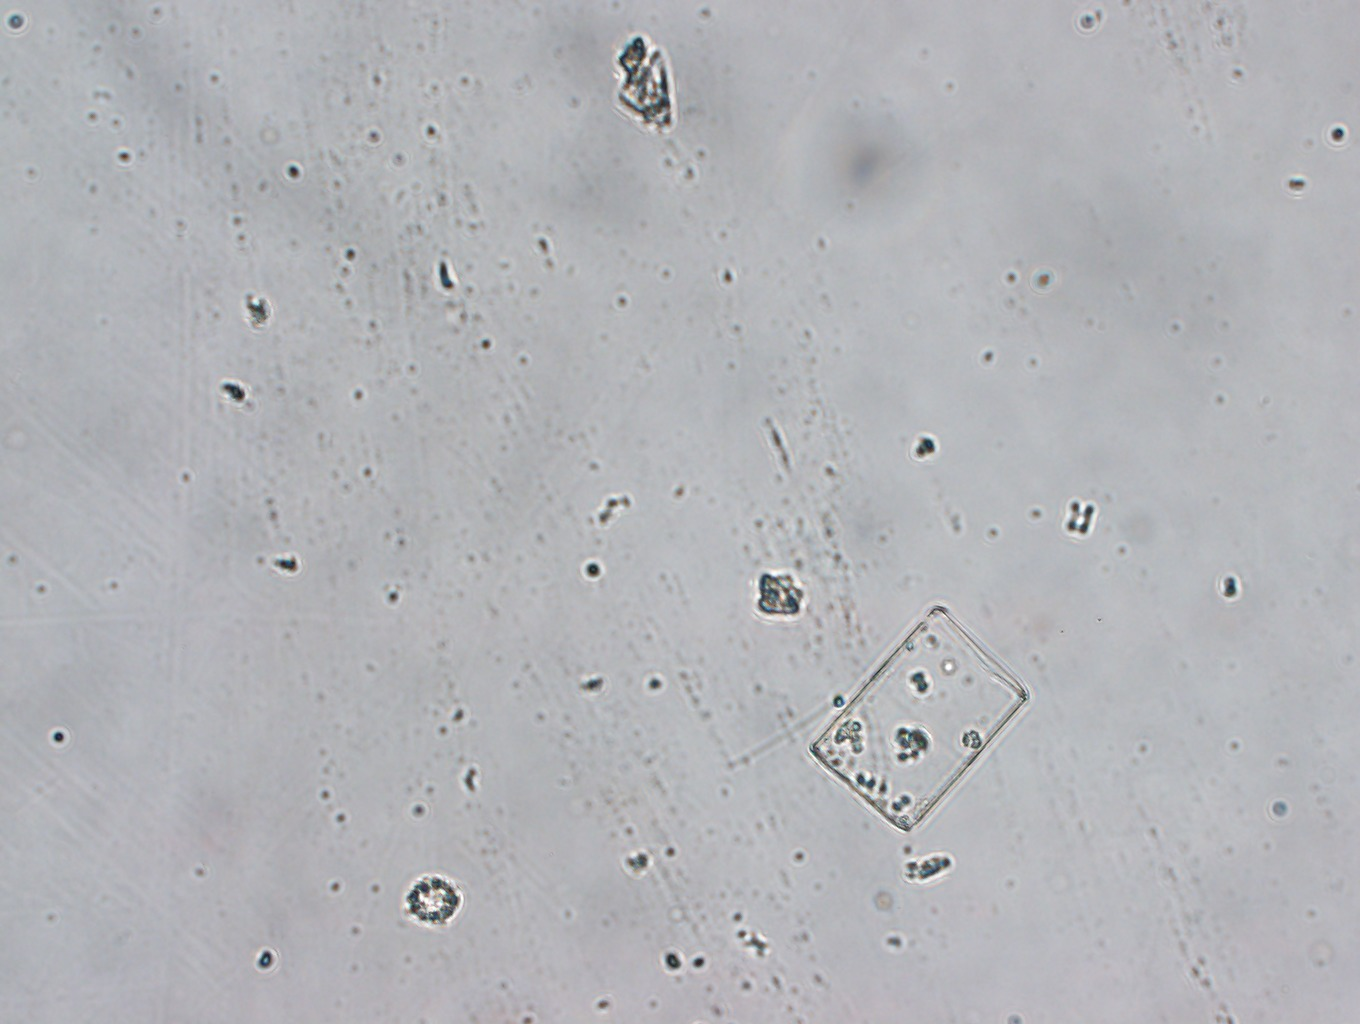guinardia flaccida: (805, 599, 1033, 837)
